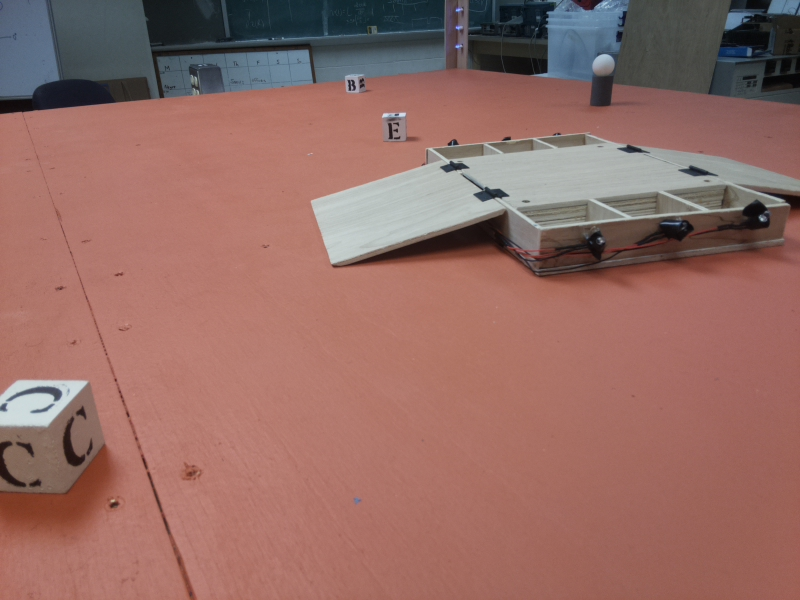blockB: (346, 74, 365, 96)
blockC: (1, 376, 106, 501)
blockE: (383, 111, 408, 146)
corner: (443, 1, 469, 75)
obstacle: (586, 55, 616, 110)
side: (504, 188, 791, 282)
slope: (307, 158, 506, 272), (632, 138, 800, 195), (423, 128, 619, 161)
